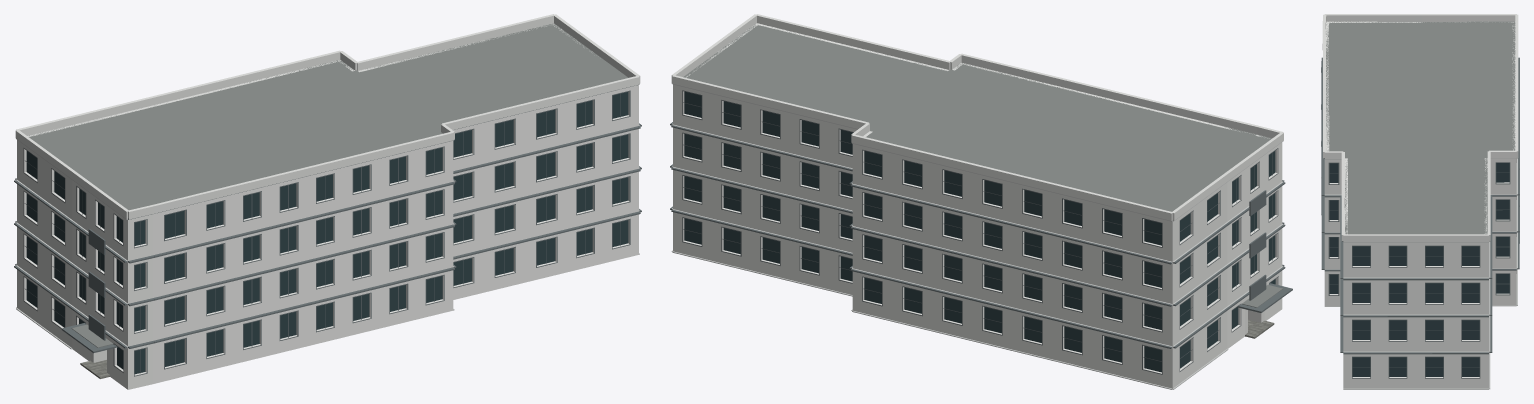
The picture shows the model from 3 angles, left to right: view 1: azimuth 30°, elevation 25°; view 2: azimuth 150°, elevation 25°; view 3: azimuth 270°, elevation 25°; orthographic projection. The views are drawn at different scales.
Visible parts, largest first — view 1: educationNew__cream, educationNew__roof, educationNew__glass, educationNew__stone, educationNew__frame, educationNew__light; view 2: educationNew__stone, educationNew__roof, educationNew__glass, educationNew__frame, educationNew__cream, educationNew__light; view 3: educationNew__roof, educationNew__stone, educationNew__glass, educationNew__frame, educationNew__light, educationNew__cream.
Part boxes in pixels (box(x1,y1,x2,y2)): educationNew__cream: box(72, 85, 638, 389); educationNew__roof: box(29, 23, 628, 347); educationNew__glass: box(26, 92, 628, 374); educationNew__stone: box(15, 14, 640, 374); educationNew__frame: box(14, 84, 641, 376); educationNew__light: box(16, 69, 639, 349); educationNew__stone: box(671, 14, 1283, 388); educationNew__roof: box(683, 24, 1282, 307); educationNew__glass: box(684, 91, 1275, 372); educationNew__frame: box(670, 90, 1292, 374); educationNew__cream: box(755, 23, 1282, 348); educationNew__light: box(671, 83, 1283, 389); educationNew__roof: box(1326, 21, 1515, 234); educationNew__stone: box(1322, 14, 1518, 388); educationNew__glass: box(1329, 163, 1509, 376); educationNew__frame: box(1321, 57, 1519, 378); educationNew__light: box(1324, 158, 1517, 389); educationNew__cream: box(1325, 21, 1421, 234).
Size of the model in its own units: 49.55 by 15.45 by 18.01.
Materials: 7 (1 with a texture image).
